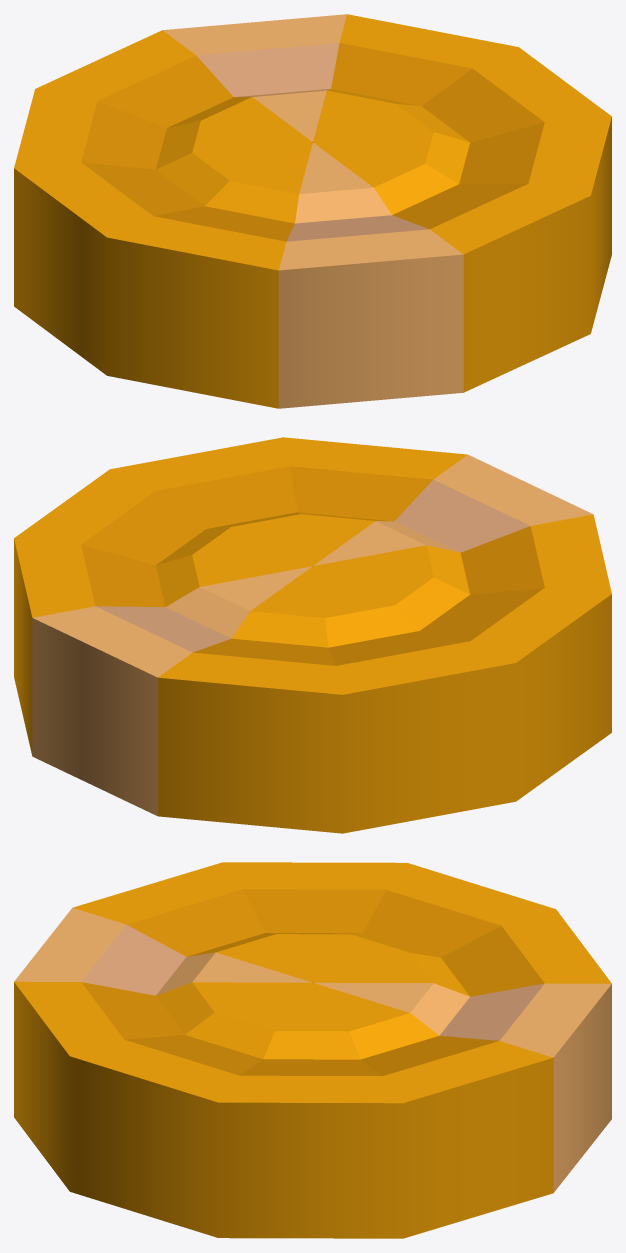
Rendered from coin.fbx.
The picture shows the model from 3 angles, top to bottom: view 1: azimuth 30°, elevation 25°; view 2: azimuth 150°, elevation 25°; view 3: azimuth 270°, elevation 25°; orthographic projection. The views are drawn at different scales.
Visible parts, largest first — view 1: Coin; view 2: Coin; view 3: Coin.
Boxes of the visible parts, x1,y1,x2,y2 form: Coin: (14, 14, 611, 408); Coin: (14, 437, 611, 833); Coin: (14, 862, 611, 1238).
Bounding box in the file's own units: 45.64 × 11.97 × 47.87.
